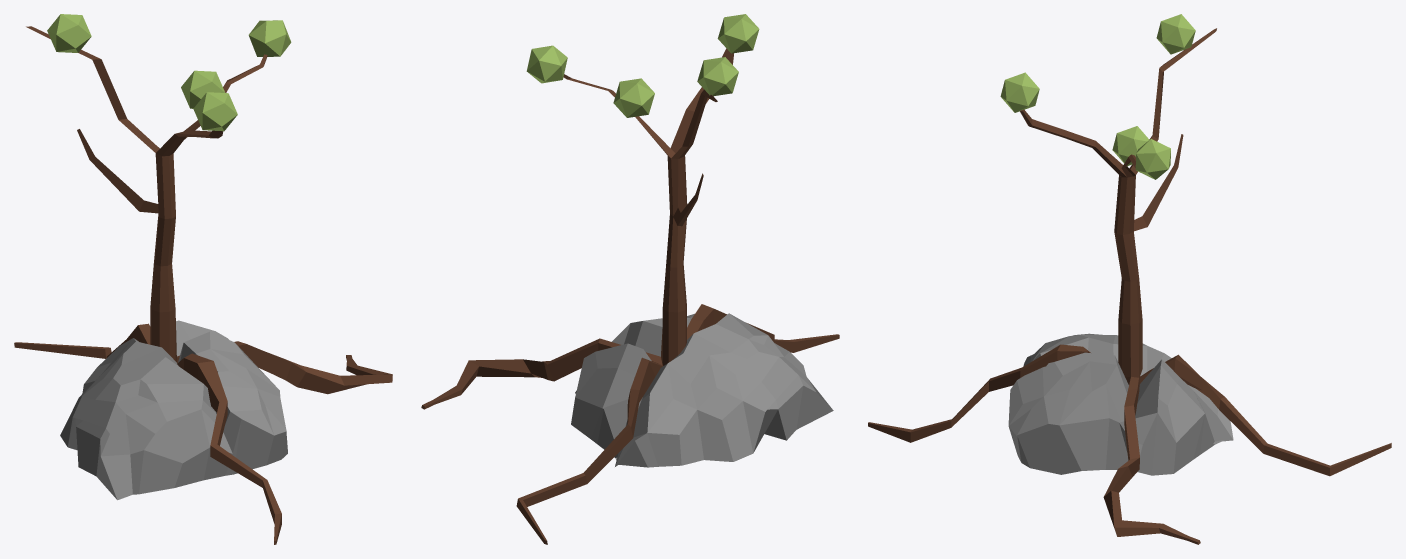
Rendered from Tree.fbx.
3 views of the same model, side by side, from view 1: azimuth 30°, elevation 25°; view 2: azimuth 150°, elevation 25°; view 3: azimuth 270°, elevation 25° (orthographic). The views are drawn at different scales.
Visible parts, largest first — view 1: Rock, Tree Branches, Icosphere.003, Icosphere, Icosphere.002, Icosphere.001; view 2: Rock, Tree Branches, Icosphere.001, Icosphere.003, Icosphere, Icosphere.002; view 3: Rock, Tree Branches, Icosphere, Icosphere.003, Icosphere.002, Icosphere.001.
Boxes of the visible parts, bbox=[...] form: Rock: bbox=[60, 320, 287, 500]; Tree Branches: bbox=[14, 26, 392, 544]; Icosphere.003: bbox=[193, 92, 237, 131]; Icosphere: bbox=[47, 14, 91, 52]; Icosphere.002: bbox=[248, 20, 291, 56]; Icosphere.001: bbox=[181, 70, 225, 108]; Rock: bbox=[571, 313, 833, 467]; Tree Branches: bbox=[421, 48, 839, 544]; Icosphere.001: bbox=[613, 78, 654, 117]; Icosphere.003: bbox=[717, 14, 759, 53]; Icosphere: bbox=[697, 57, 738, 96]; Icosphere.002: bbox=[526, 45, 567, 83]; Rock: bbox=[1008, 333, 1233, 475]; Tree Branches: bbox=[868, 28, 1391, 544]; Icosphere: bbox=[1156, 14, 1195, 54]; Icosphere.003: bbox=[1000, 72, 1039, 112]; Icosphere.002: bbox=[1135, 139, 1170, 179]; Icosphere.001: bbox=[1112, 126, 1149, 166].
Bounding box in the file's own units: 469 × 588 × 692.
Materials: 3 (3 with a texture image).
